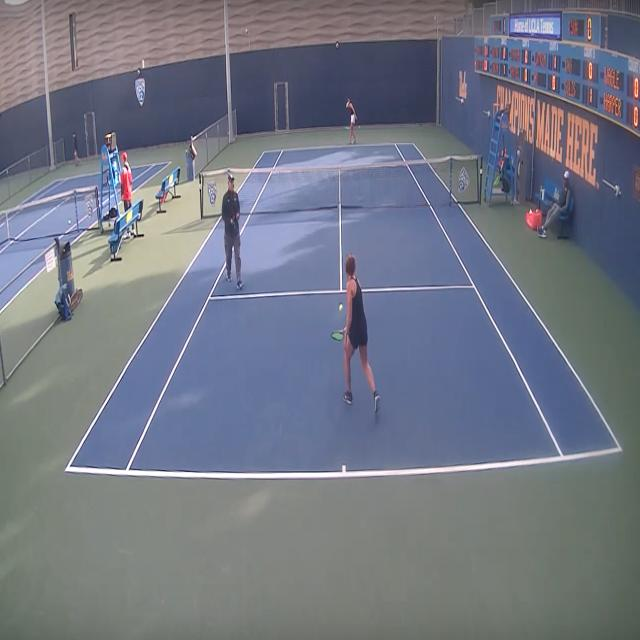ball: (338, 301, 344, 312)
